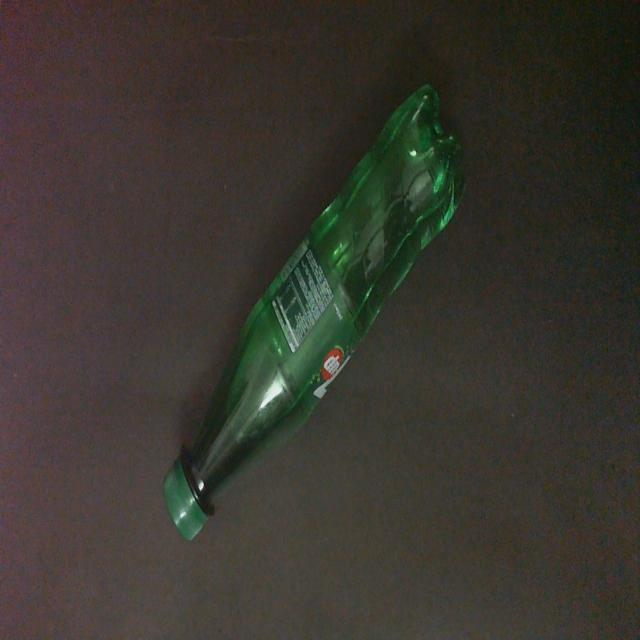non-defect: (162, 79, 470, 547)
